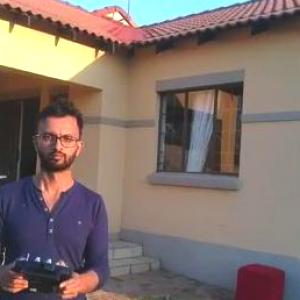follow: (0, 94, 113, 299)
